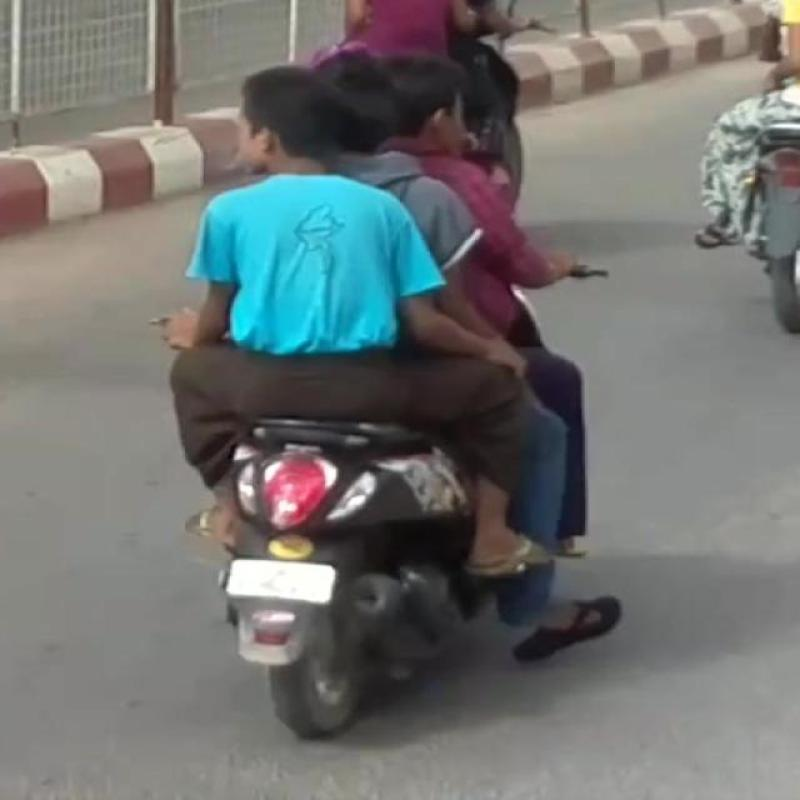nohelmet: (380, 44, 544, 162), (220, 50, 334, 170)
